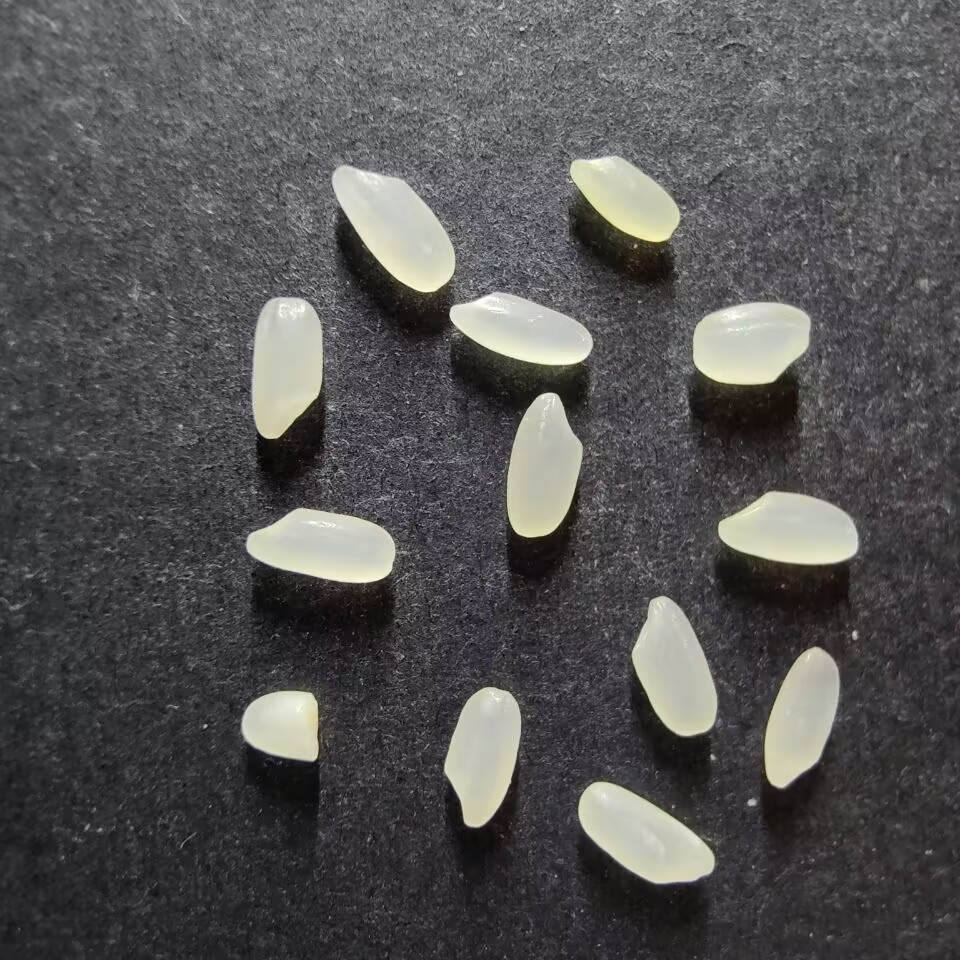broken: (240, 690, 320, 762)
rice: (330, 164, 455, 291), (577, 781, 715, 884), (630, 595, 718, 736), (244, 507, 396, 582), (505, 392, 582, 538), (442, 686, 521, 828), (763, 648, 840, 788), (448, 291, 593, 365), (250, 296, 323, 440), (717, 491, 858, 564), (691, 301, 811, 386), (569, 155, 680, 242)
